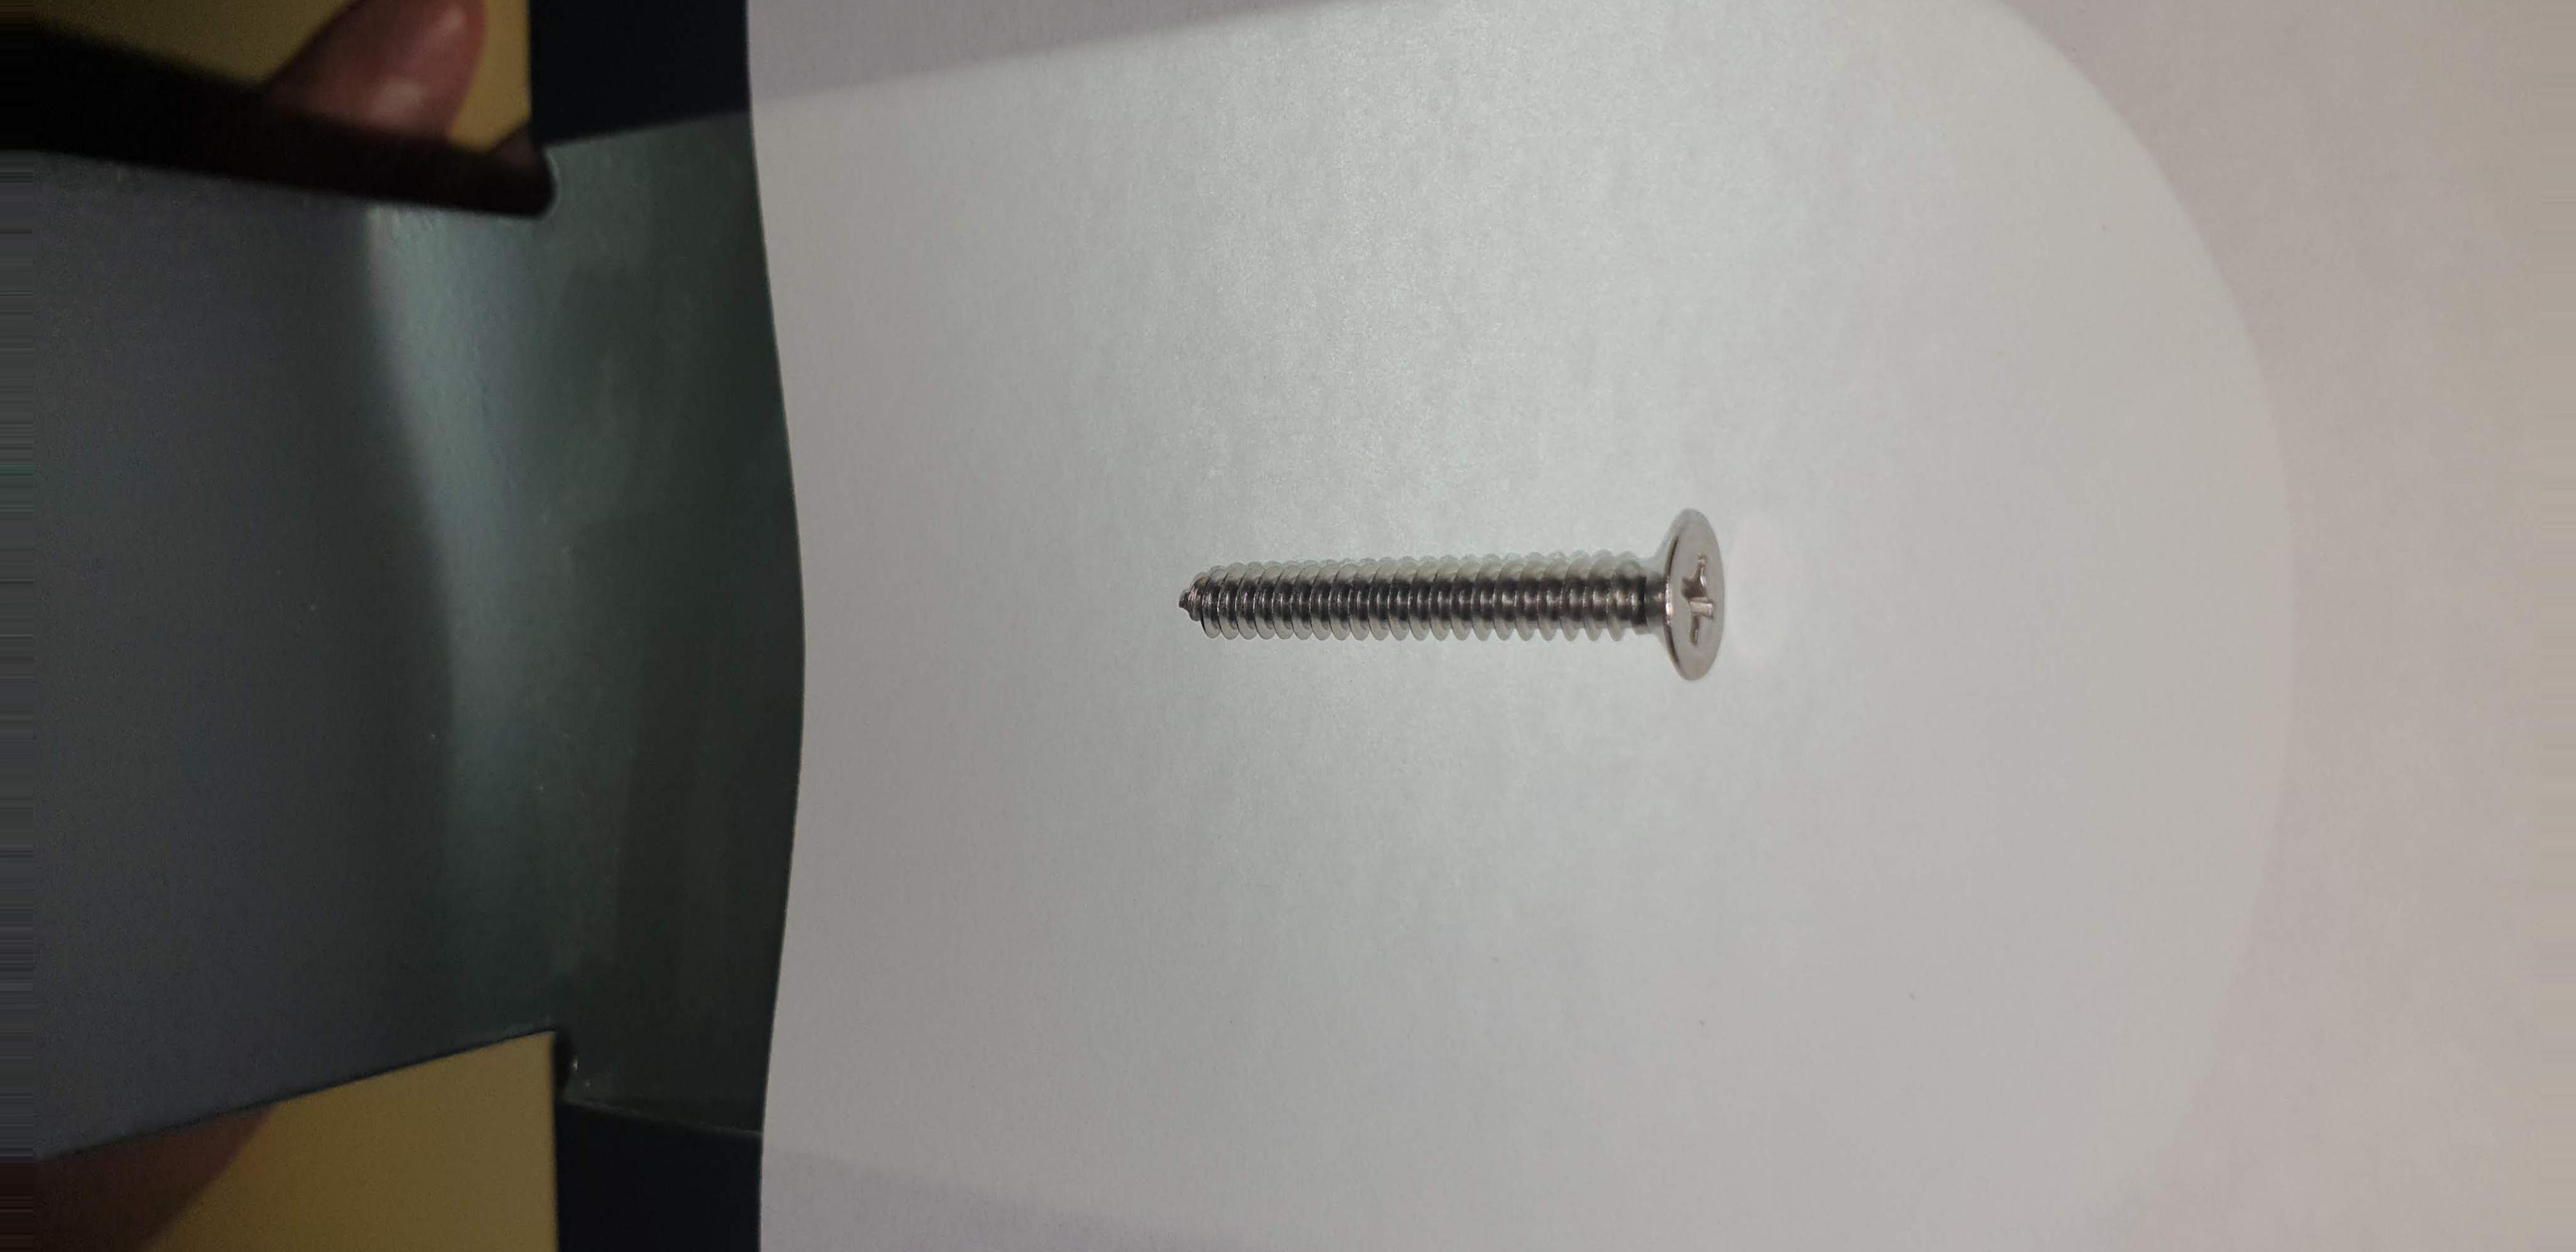fastener: (1069, 472, 1812, 738)
